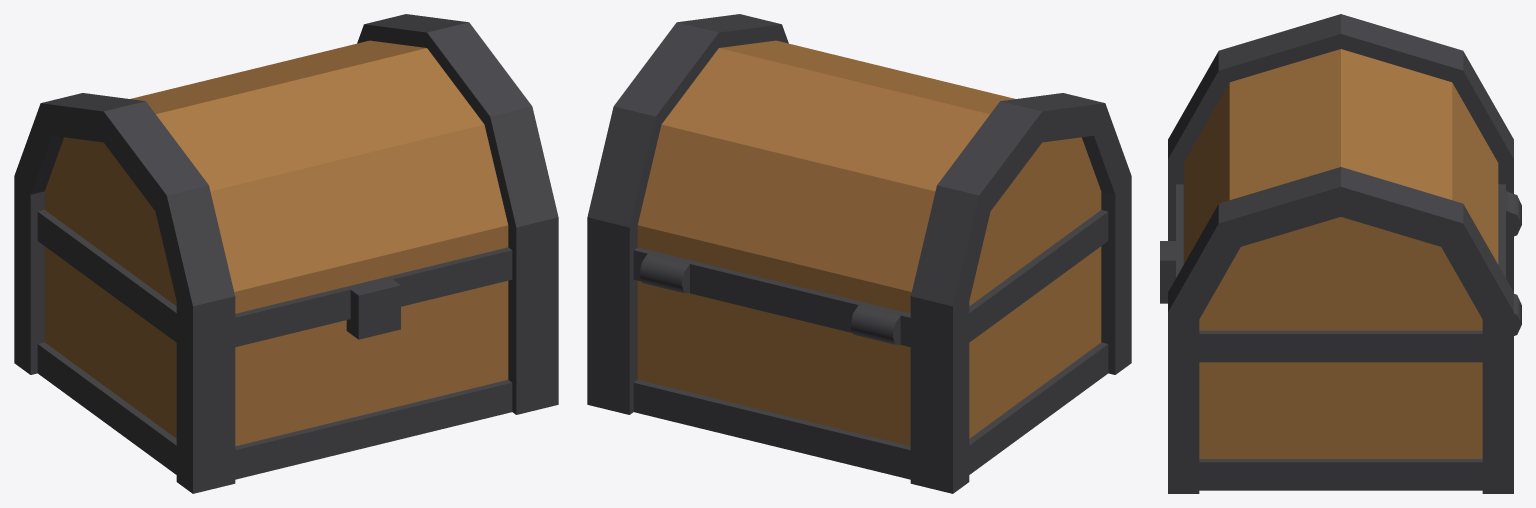
File: RPGGame_Characters.fbx
3 views of the same model, side by side, from view 1: azimuth 30°, elevation 25°; view 2: azimuth 150°, elevation 25°; view 3: azimuth 270°, elevation 25° (orthographic). The views are drawn at different scales.
Visible parts, largest first — view 1: chest_top, chest.003; view 2: chest_top, chest.003; view 3: chest_top, chest.003.
Part boxes in pixels (left/top/right/bottom): chest_top: left=14, top=14, right=558, bottom=346; chest.003: left=14, top=216, right=558, bottom=493; chest_top: left=587, top=14, right=1131, bottom=346; chest.003: left=587, top=216, right=1131, bottom=493; chest_top: left=1160, top=14, right=1513, bottom=351; chest.003: left=1168, top=191, right=1521, bottom=493.
Size of the model in its own units: 130 by 108 by 115.
